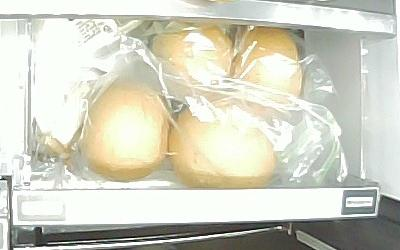pear_vinyl: (169, 106, 278, 190), (80, 83, 168, 182), (151, 22, 235, 95), (235, 26, 303, 110)
